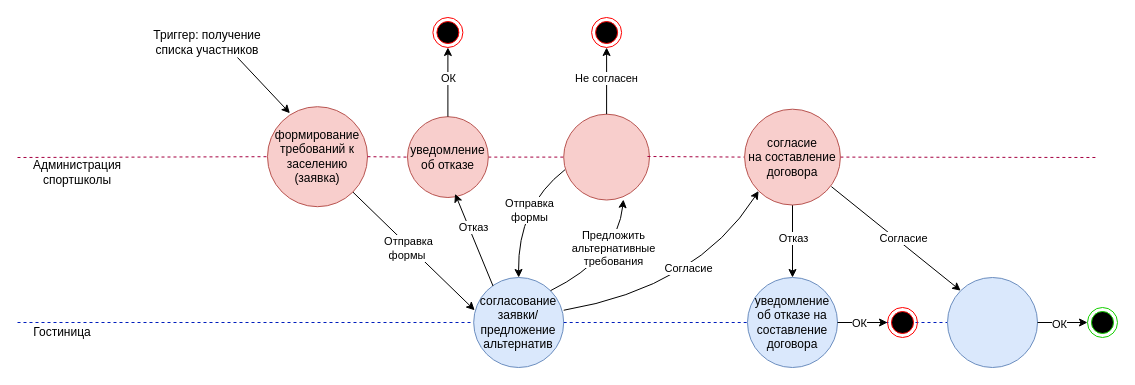
Image size: 1135x385. Some labels were removed from this diagram. Each missing label, with the centre of its shape:
"рассмотрение альтернатив" goes at pixel 606 156.
"уведомление о согласии на составление договора" goes at pixel 992 322.
